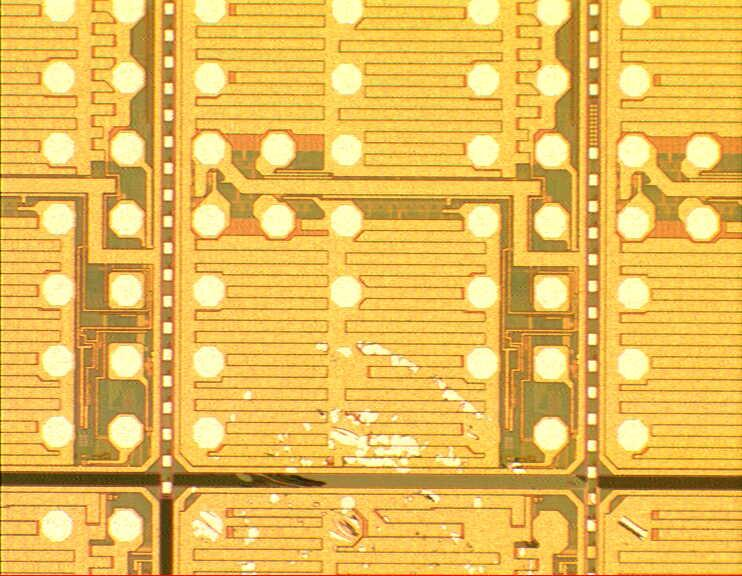COATING BAD: (193, 338, 578, 576)
